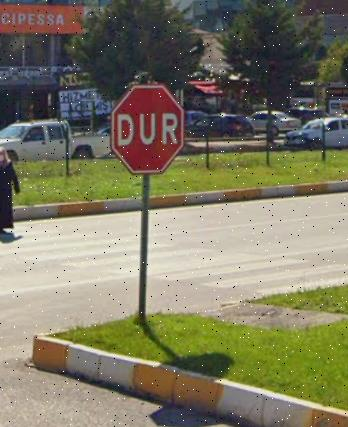stop: (109, 85, 182, 179)
